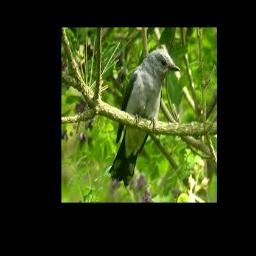Cuckoo: (109, 49, 181, 186)
